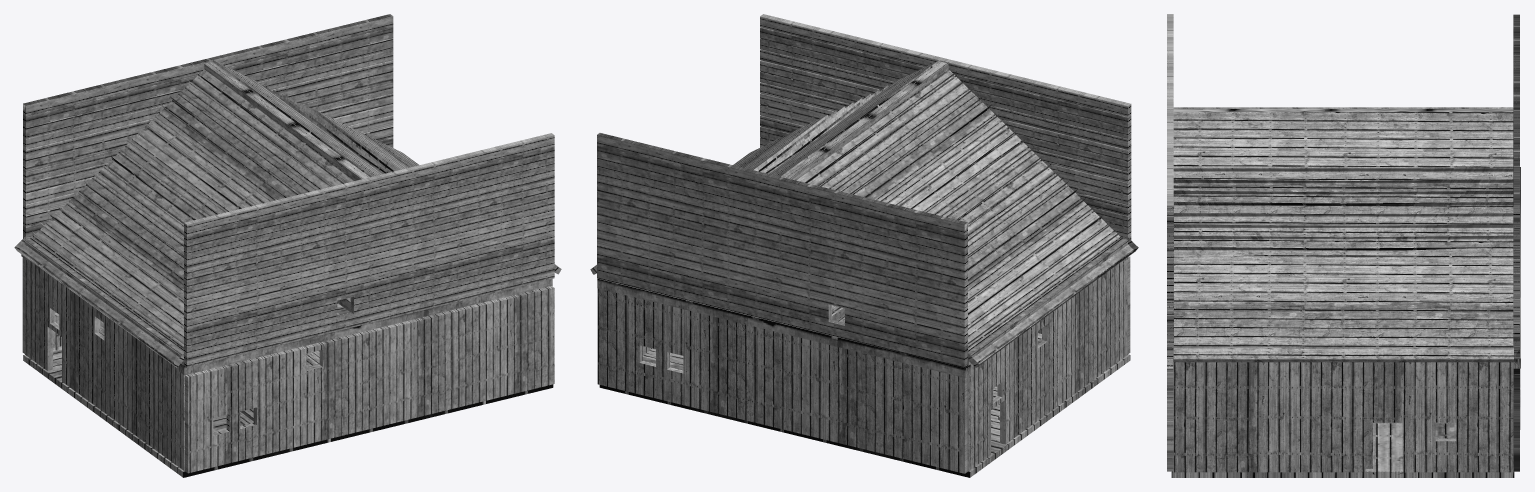
Rendered from Glashuette.glb.
3 views of the same model, side by side, from view 1: azimuth 30°, elevation 25°; view 2: azimuth 150°, elevation 25°; view 3: azimuth 270°, elevation 25° (orthographic). The views are drawn at different scales.
Parts seen in each view (by area): view 1: Curve; view 2: Curve; view 3: Curve.
Boxes of the visible parts, <box> form: Curve: <box>14,14,561,477</box>; Curve: <box>590,14,1138,477</box>; Curve: <box>1167,14,1520,477</box>.
Size of the model in its own units: 21.14 by 13.24 by 15.62.
10 materials, 8 textured.
